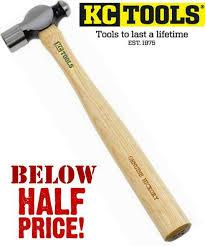hammer: (0, 0, 192, 242)
